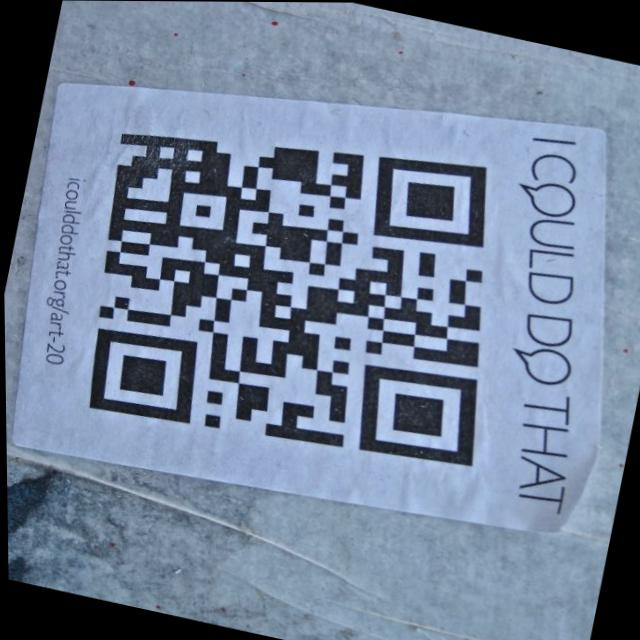qrcode: (63, 89, 533, 491)
